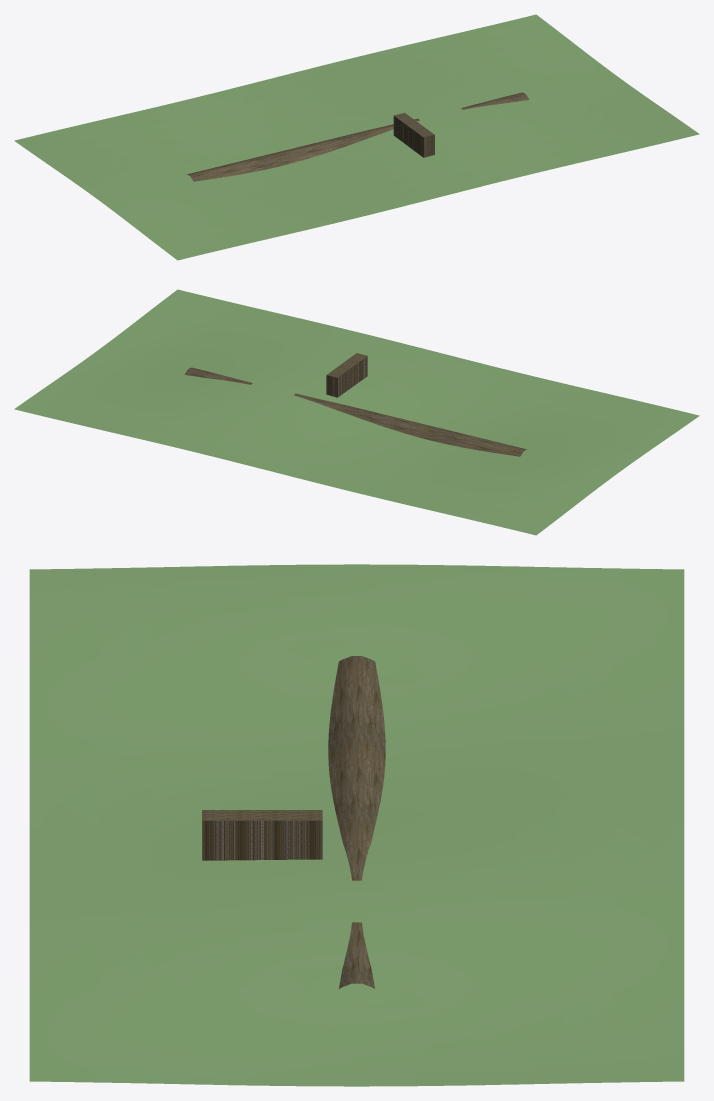
Rendered from river-deposition.glb.
3 renders of one model, top to bottom at view 1: azimuth 30°, elevation 25°; view 2: azimuth 150°, elevation 25°; view 3: azimuth 270°, elevation 25°, orthographic. The views are drawn at different scales.
Visible parts, largest first — view 1: River_Floodplain, River_Levee, River_CutBank; view 2: River_Floodplain, River_Levee, River_CutBank; view 3: River_Floodplain, River_Levee, River_CutBank.
Boxes of the visible parts, bbox=[...] form: River_Floodplain: bbox=[14, 14, 699, 260]; River_Levee: bbox=[186, 92, 529, 181]; River_CutBank: bbox=[393, 113, 434, 157]; River_Floodplain: bbox=[14, 289, 699, 535]; River_Levee: bbox=[184, 367, 527, 456]; River_CutBank: bbox=[326, 353, 367, 397]; River_Floodplain: bbox=[29, 564, 684, 1086]; River_Levee: bbox=[328, 656, 385, 988]; River_CutBank: bbox=[202, 810, 322, 860].
Bounding box in the file's own units: 7 × 0.3917 × 3.8.
Materials: 3 (2 with a texture image).
